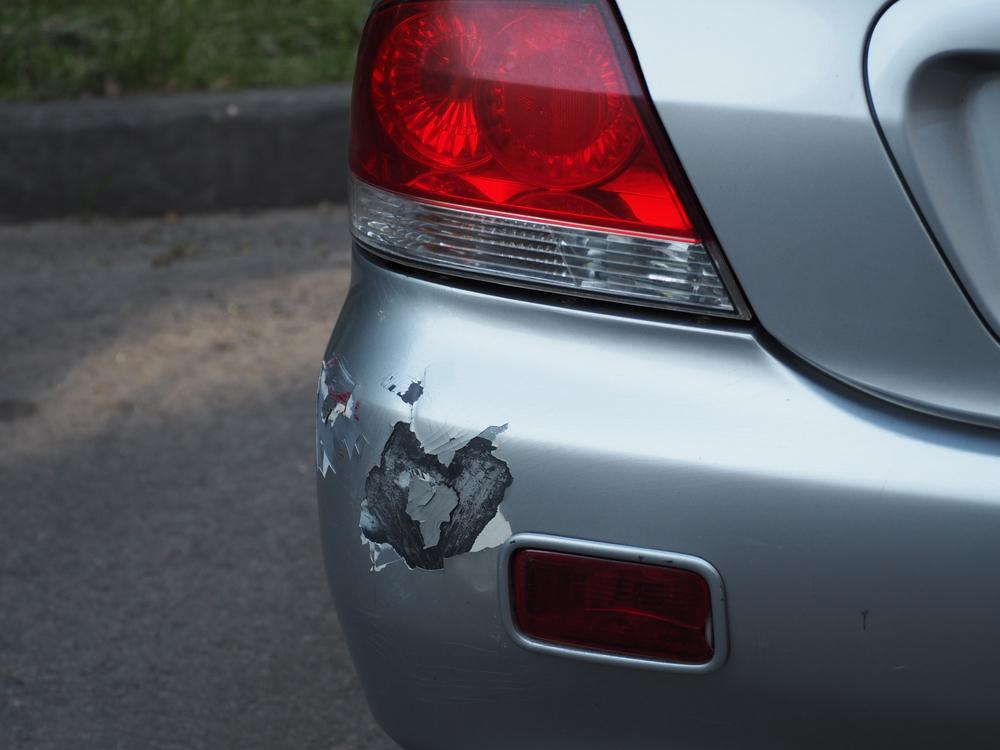scratch: (310, 349, 522, 579)
